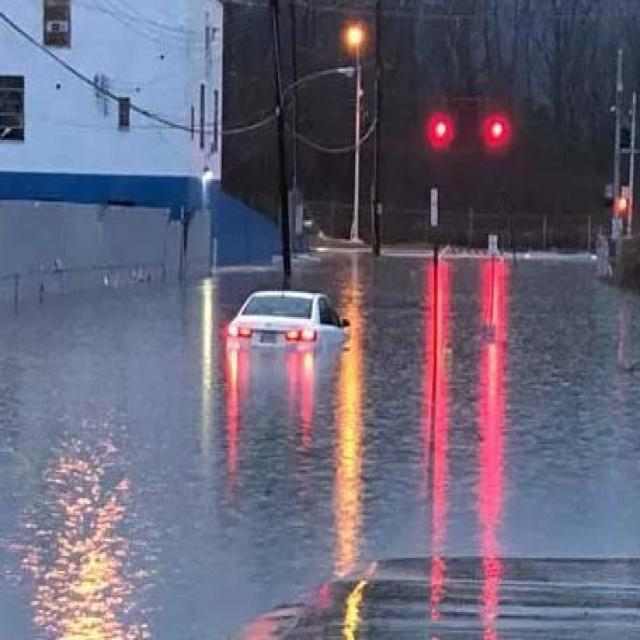water: (1, 252, 636, 639)
